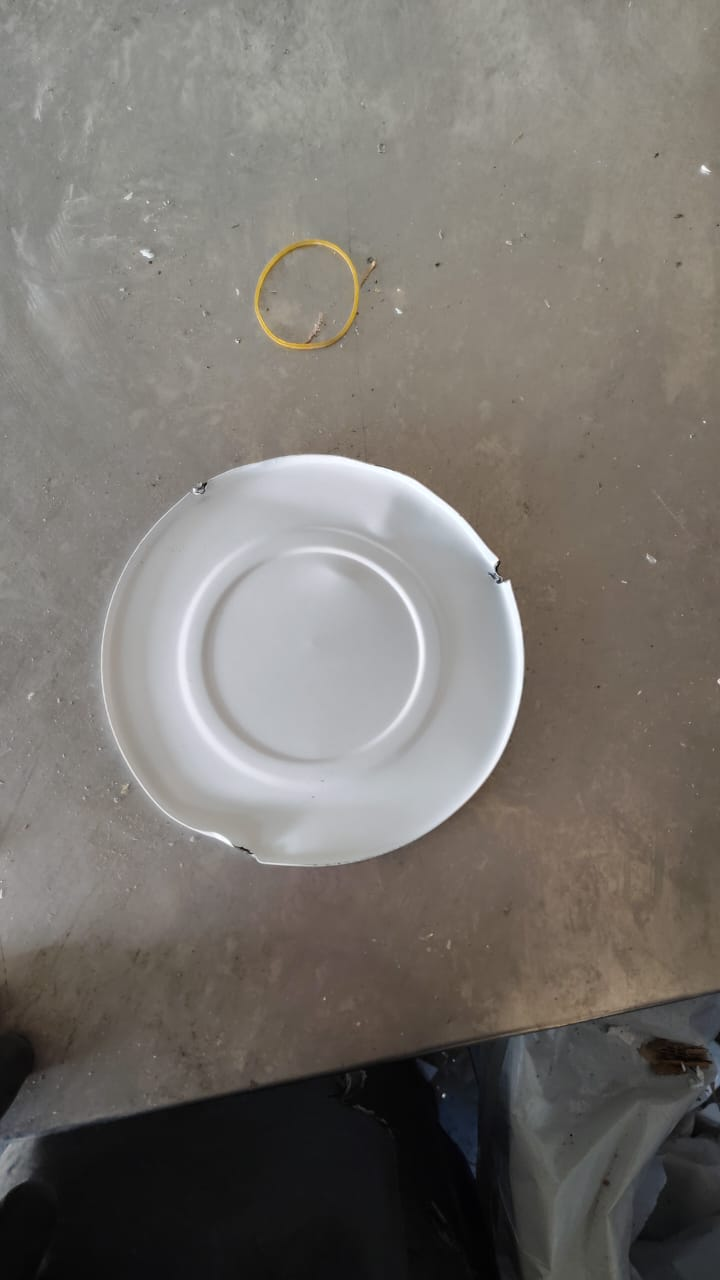Ordinario: (98, 450, 530, 873)
